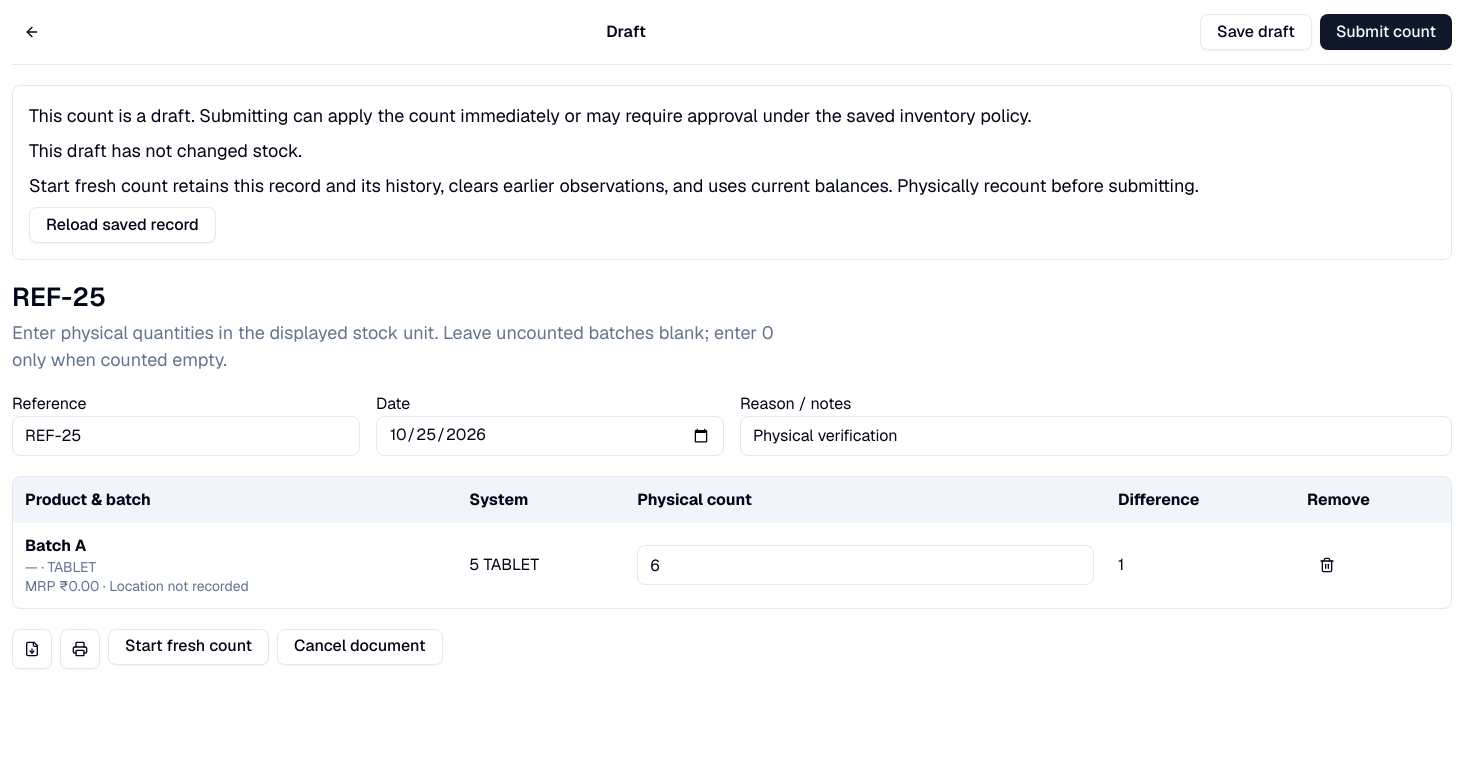
it: keeps a failed save locked until its saved record can be checked
Step 1. Click the button "Save draft" → coordinates (1256, 32), box 1200,14 -> 1312,50
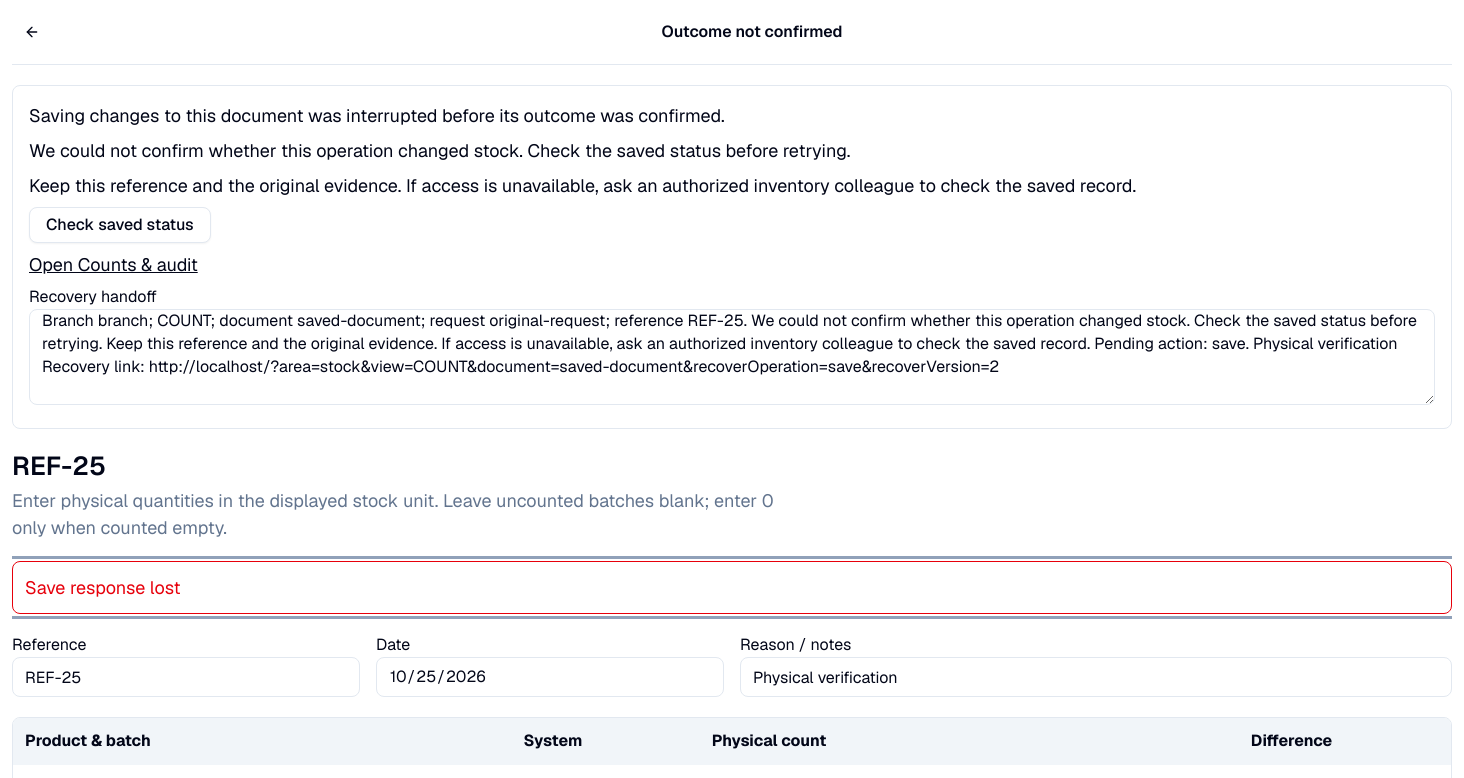
Expected: the button "Check saved status" is shown
Step 2. Click the button "Check saved status" → coordinates (120, 225), box 29,207 -> 211,243
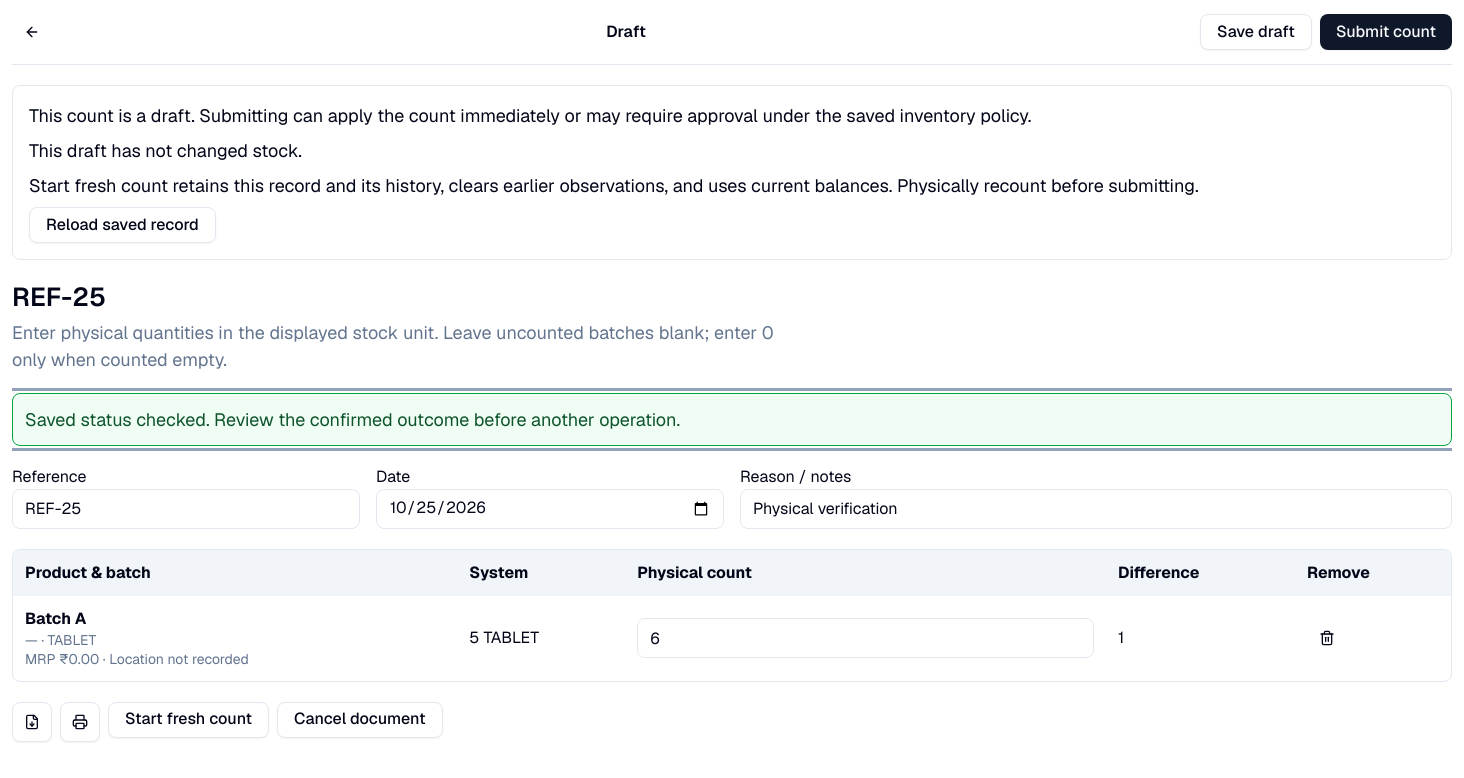
Expected: the button "Save draft" is enabled, 1200,14 -> 1312,50
